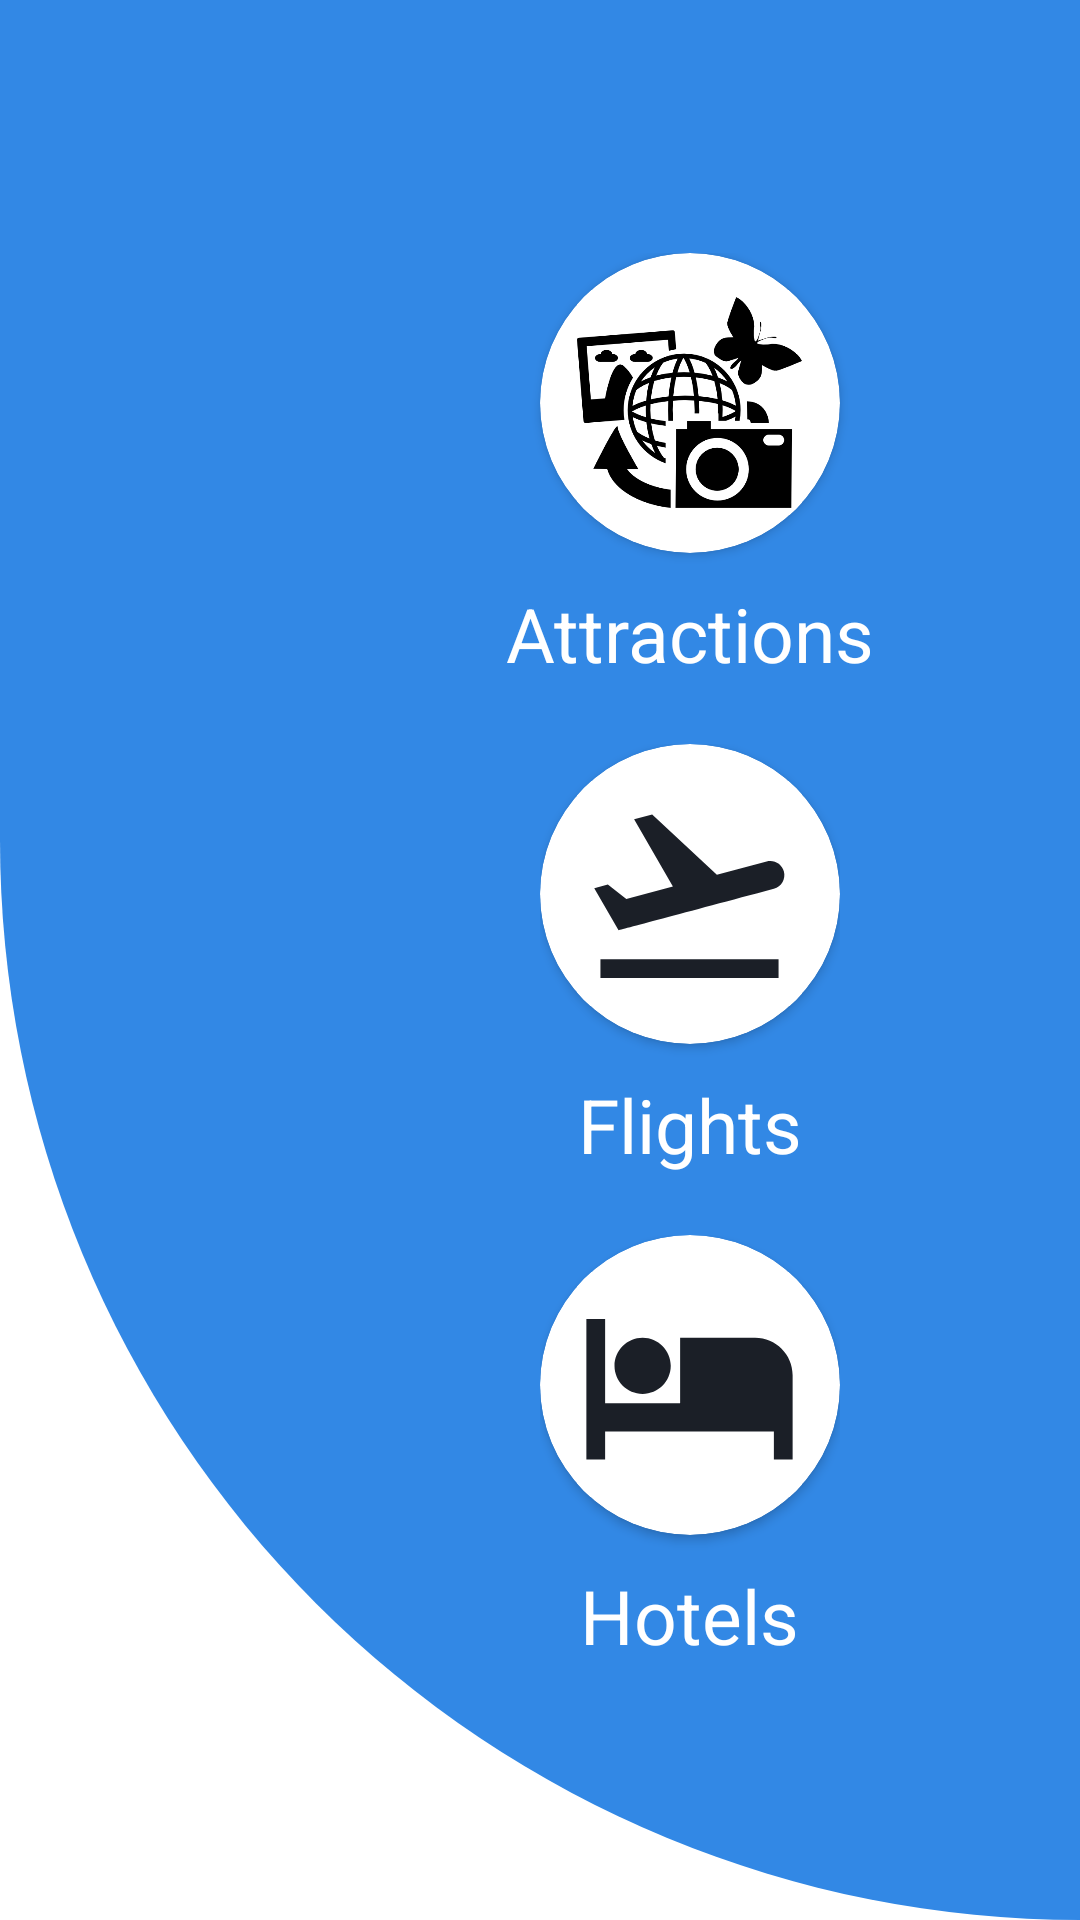

Where icons sit on this 1080px x 1920px app screen, as (x1, y1, x2, y2):
category attraction: (577, 297, 802, 508)
category flight: (594, 814, 785, 978)
category hotel: (586, 1319, 793, 1460)
